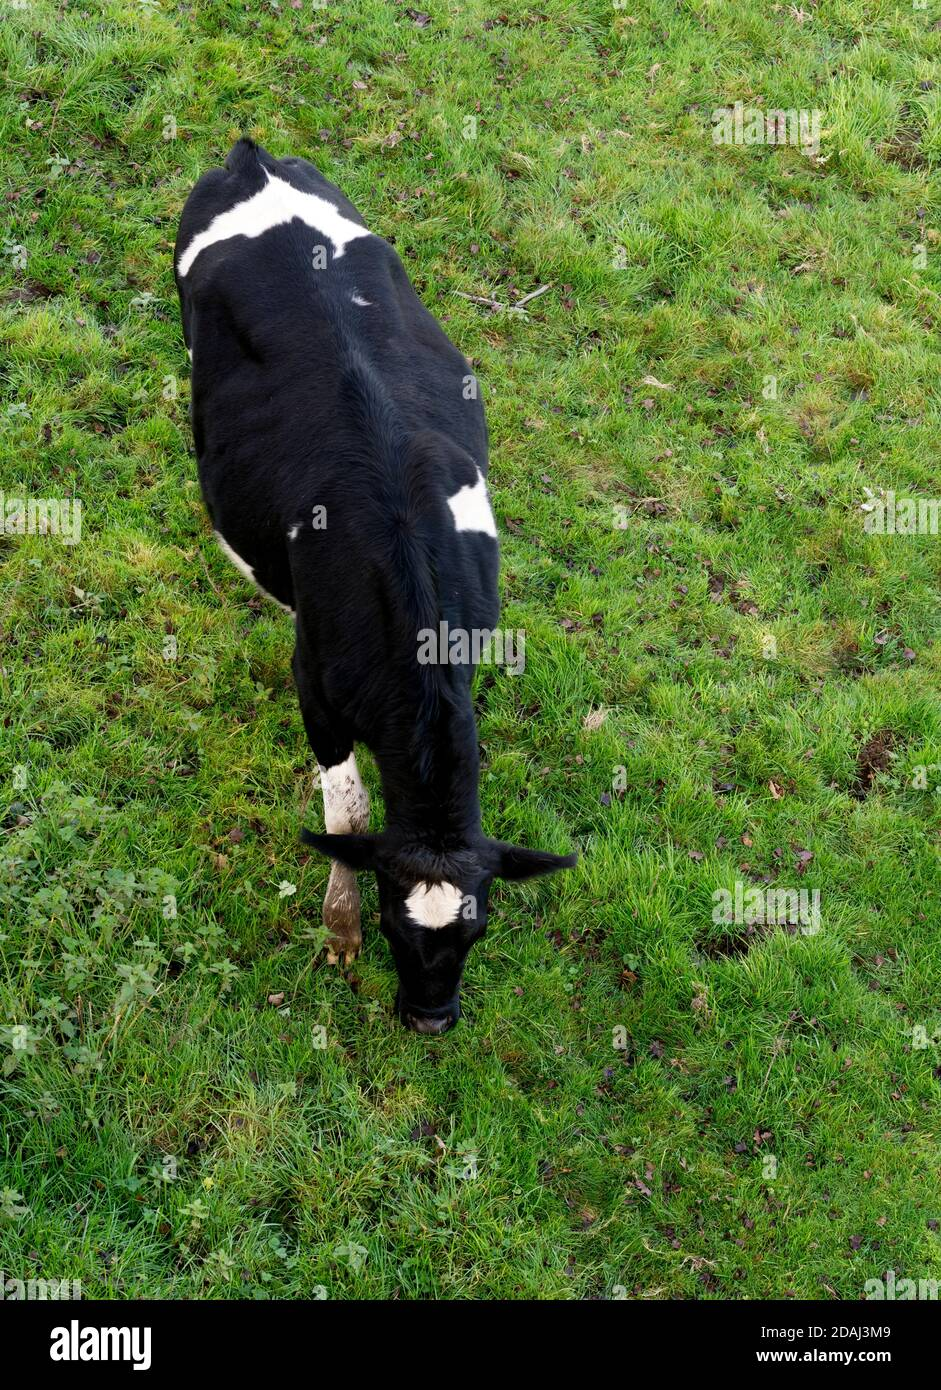cattle: (135, 120, 591, 1051)
